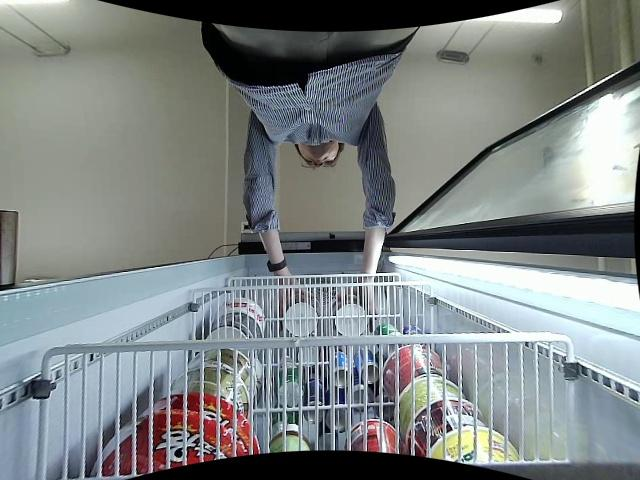00_hand: (352, 278, 382, 330), (275, 276, 314, 312)
